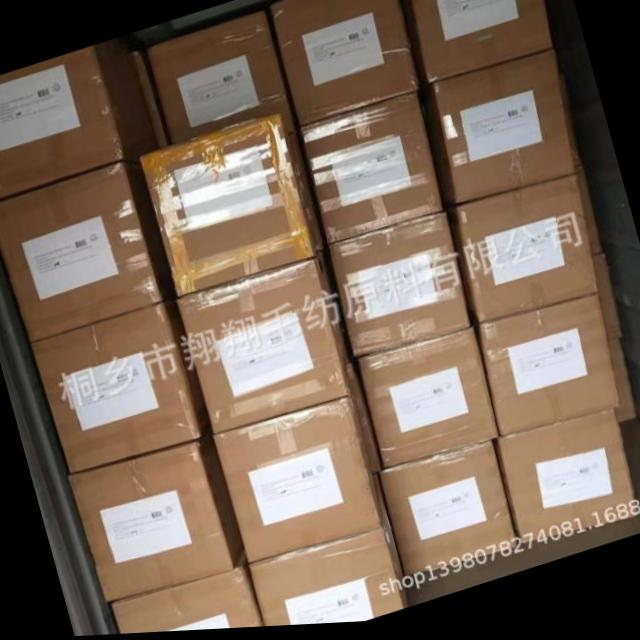box: (138, 115, 323, 297), (0, 160, 175, 342), (31, 297, 210, 474), (175, 253, 349, 434), (68, 424, 243, 603), (213, 388, 381, 565), (0, 40, 158, 199), (418, 54, 581, 208), (248, 475, 408, 629), (299, 93, 444, 248), (445, 179, 596, 327), (327, 214, 470, 360), (478, 300, 619, 443), (491, 414, 638, 550), (359, 331, 499, 472), (270, 0, 421, 128), (146, 13, 294, 143), (379, 444, 518, 579), (112, 550, 262, 635), (411, 0, 554, 86), (345, 366, 383, 477), (131, 52, 167, 150), (589, 258, 622, 346), (605, 343, 636, 429), (575, 171, 602, 261)
